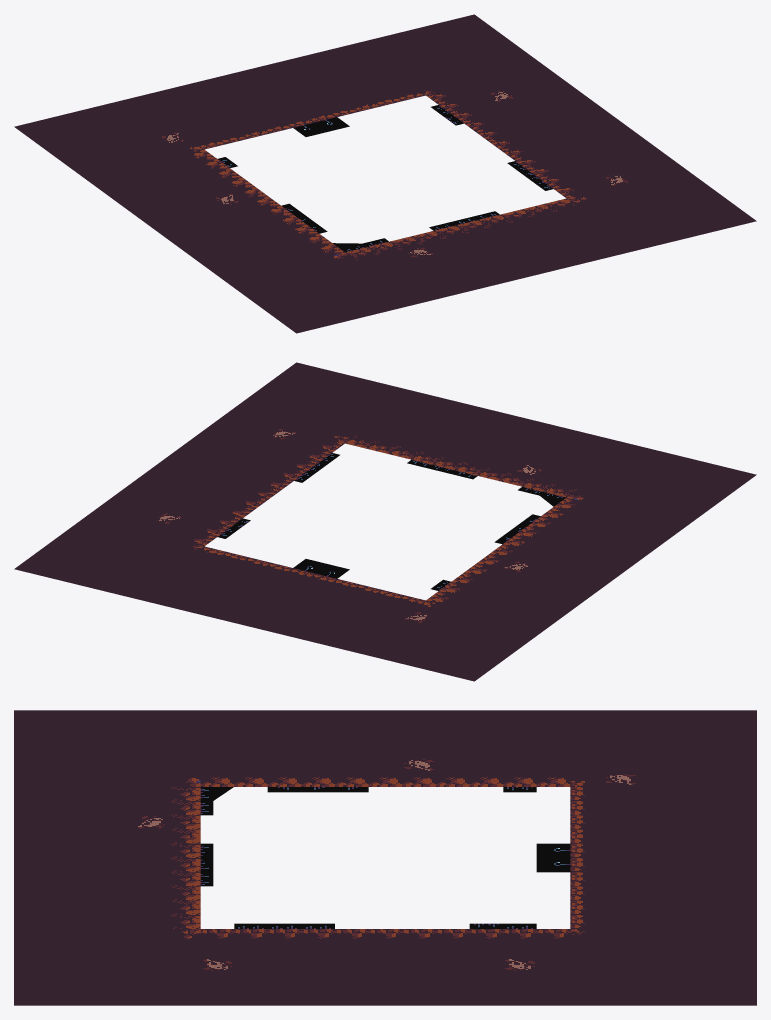
Rendered from Coldth.glb.
3 views of the same model, one above another, from view 1: azimuth 30°, elevation 25°; view 2: azimuth 150°, elevation 25°; view 3: azimuth 270°, elevation 25° (orthographic). The views are drawn at different scales.
Visible parts, largest first — view 1: Cube; view 2: Cube; view 3: Cube.
Part boxes in pixels (x1,y1,x2,y2): Cube: [14, 14, 756, 333]; Cube: [14, 362, 756, 681]; Cube: [14, 710, 756, 1005].
Size of the model in its own units: 10.4 by 0 by 11.05.
Materials: 1 (1 with a texture image).
